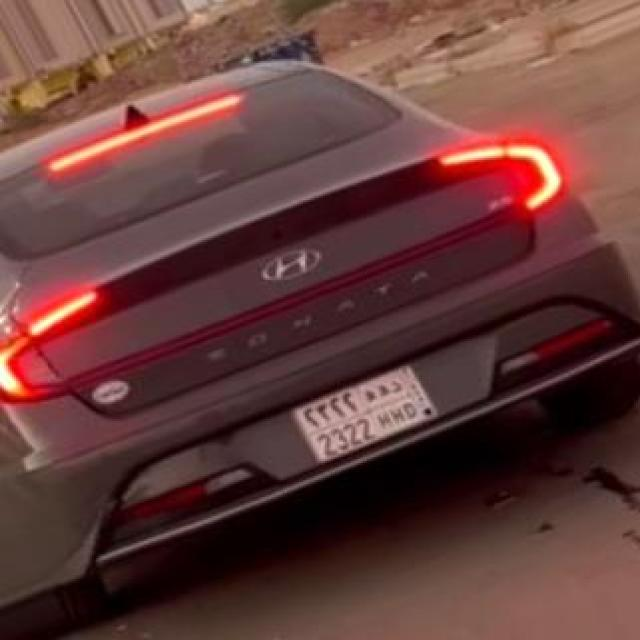Car-plate: (282, 357, 448, 473)
